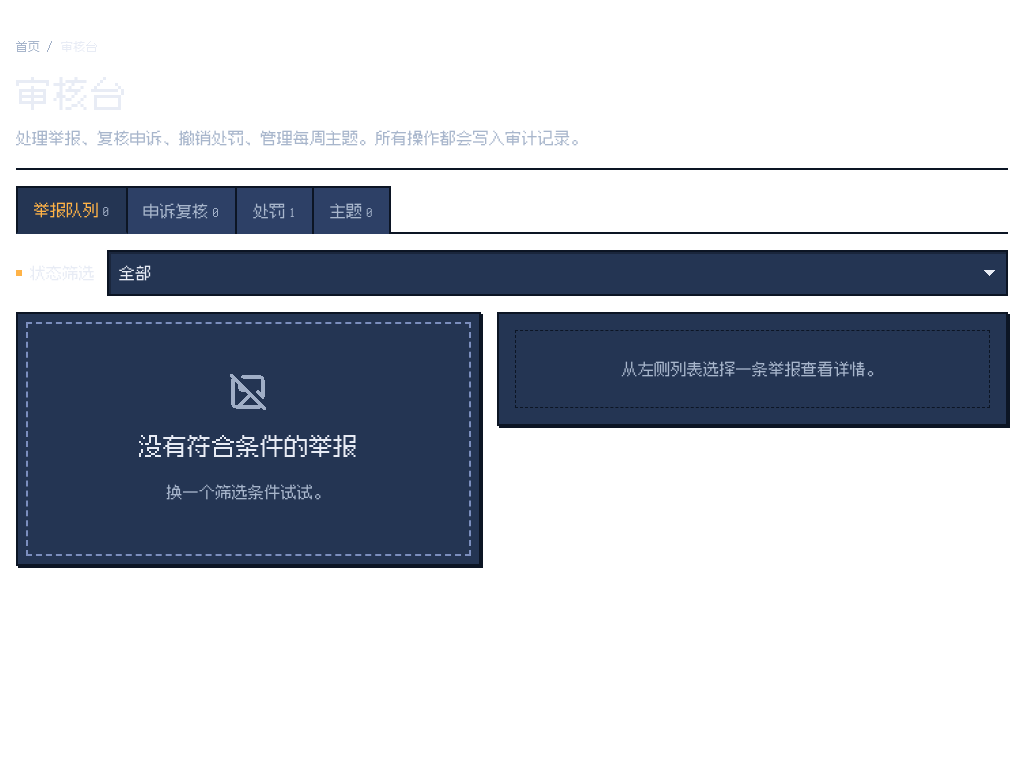
撤销处罚 › 已撤销的处罚显示撤销时间，不可再次撤销
The width and height of the screenshot is (1024, 768).
Step 1. Click the tab "处罚1" → point(275, 210), box [235,186,314,234]
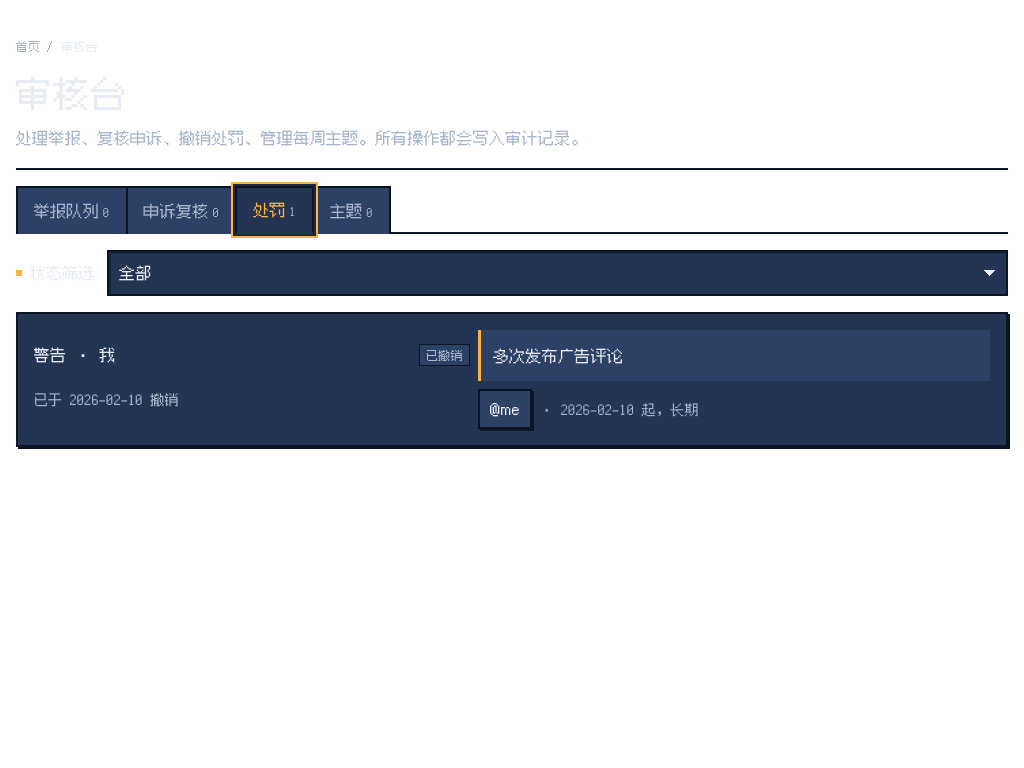
Check: the text "已于 2026-02-10 撤销" is shown, box [34,390,179,409]
